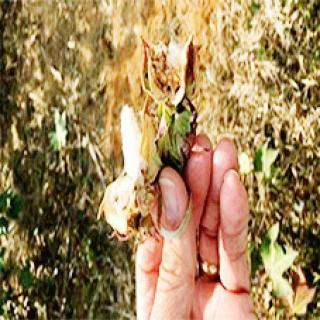leaf spot: (155, 108, 203, 186)
